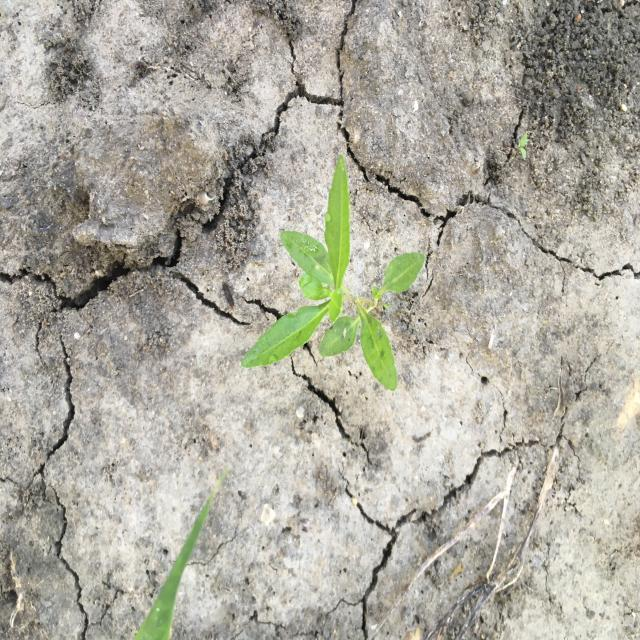Eclipta: (239, 153, 426, 393)
